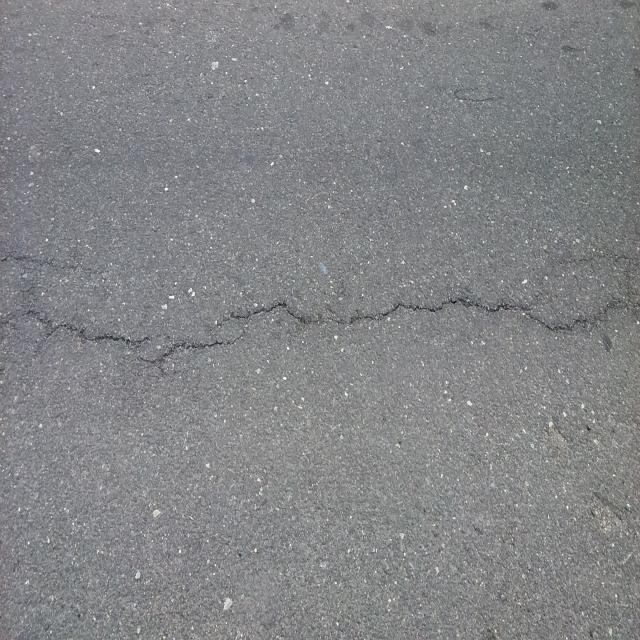transverse: (0, 249, 638, 391)
